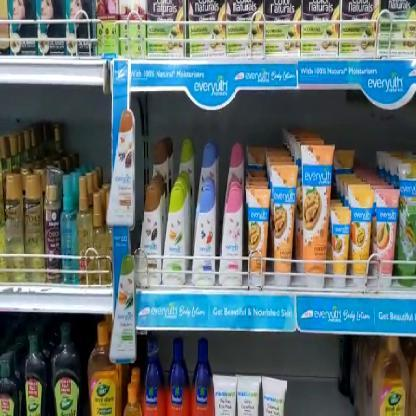Everyuth Naturals Body Lotion Nourishing Cocoa 200ml: (138, 185, 160, 285)
Everyuth Naturals Body Lotion Rejuvenating Flora 200ml: (219, 186, 242, 284)
Everyuth Naturals Body Lotion Soothing Citrus 200ml: (162, 186, 184, 284)
Everyuth Naturals Body Lotion Sun Care Berries SPF 15 200ml: (191, 186, 215, 288)
